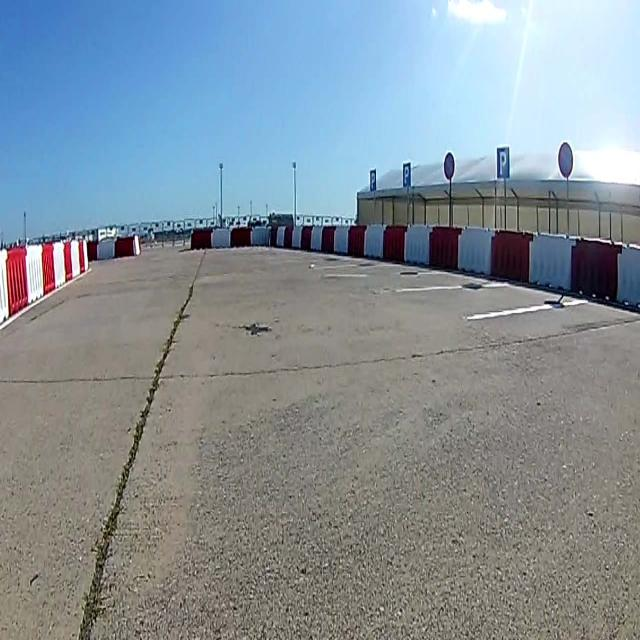park: (496, 146, 510, 180), (402, 162, 411, 188), (369, 169, 377, 192)
parkyasak: (558, 141, 574, 178), (442, 151, 456, 181)
